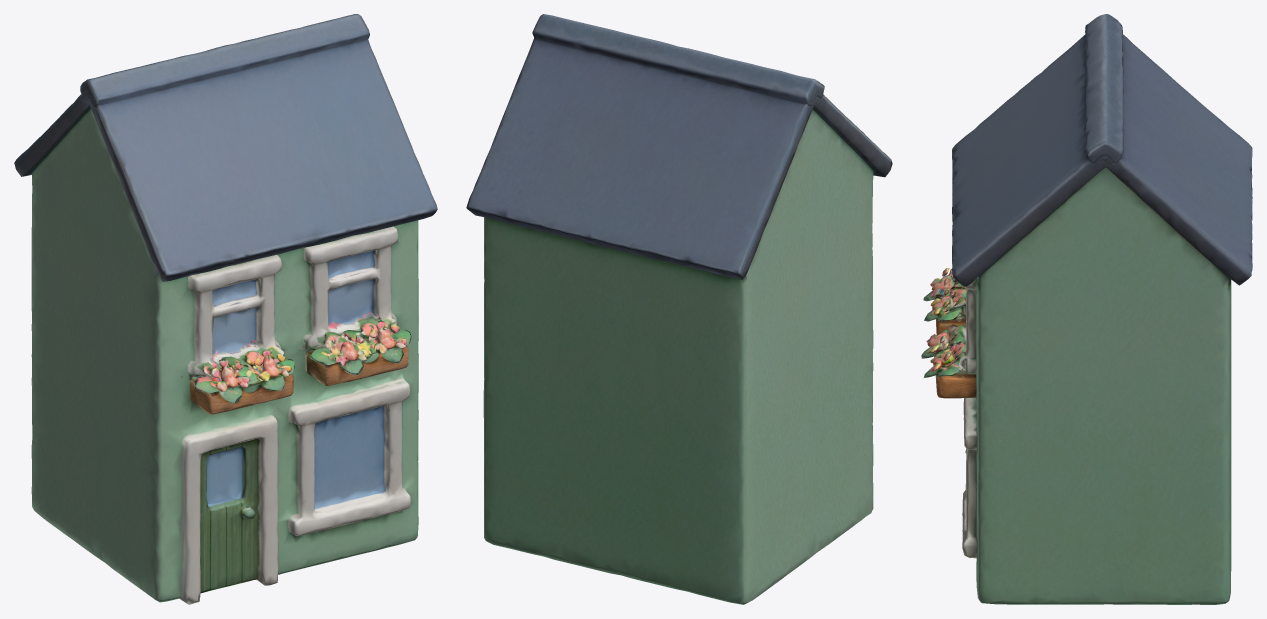
The model's file is P_TownFlower_h950.fbx.
3 renders of one model, left to right at view 1: azimuth 30°, elevation 25°; view 2: azimuth 150°, elevation 25°; view 3: azimuth 270°, elevation 25°, orthographic. The views are drawn at different scales.
Visible parts, largest first — view 1: texture_mapping; view 2: texture_mapping; view 3: texture_mapping.
Boxes of the visible parts, x1=… form: texture_mapping: x1=14, y1=14, x2=437, y2=604; texture_mapping: x1=466, y1=14, x2=892, y2=604; texture_mapping: x1=921, y1=14, x2=1252, y2=604.
Bounding box in the file's own units: 0.5986 × 0.6419 × 1.
1 material, 1 textured.
